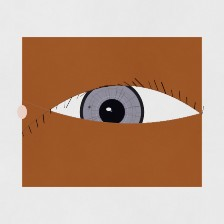pinguecula_lesion: (18, 96, 66, 135)
